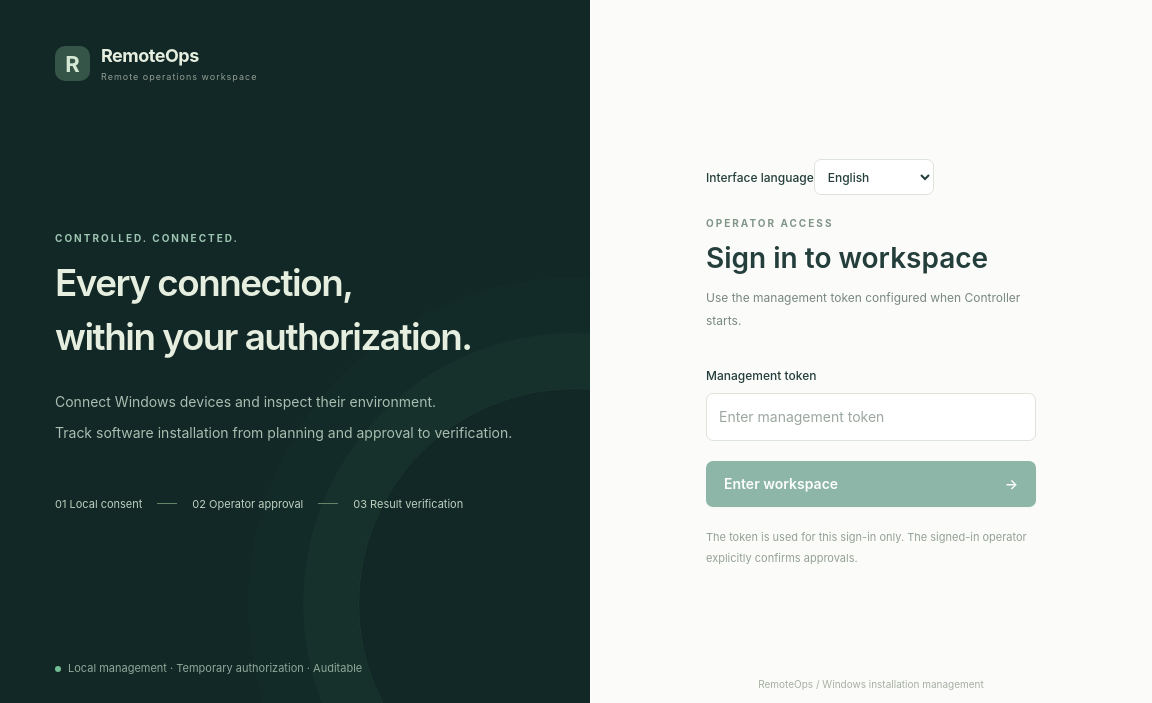
Test: management UI › localizes task diagnostics and audit actions while preserving external details and IDs
The image size is (1152, 703).
Type "test-token" into the password field labelled "Management token". click: (871, 417)
box: top-left (706, 393), bottom-right (1036, 441)
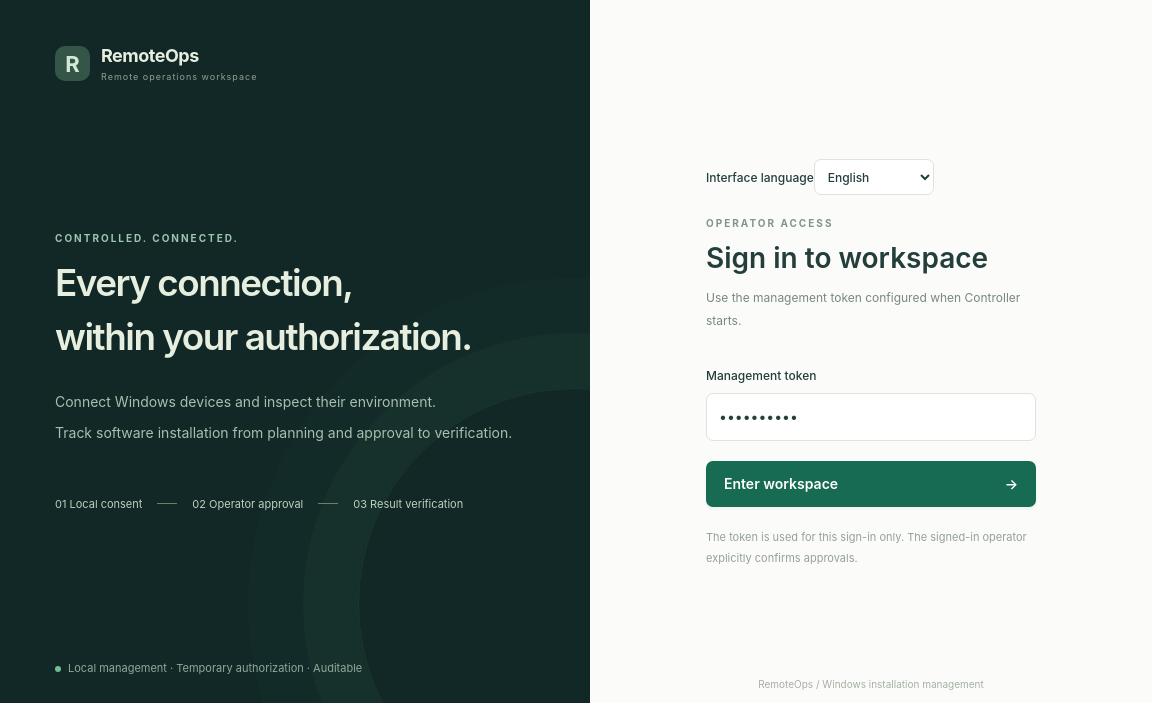
Submit the form, box top-left (706, 151), bottom-right (1036, 569)
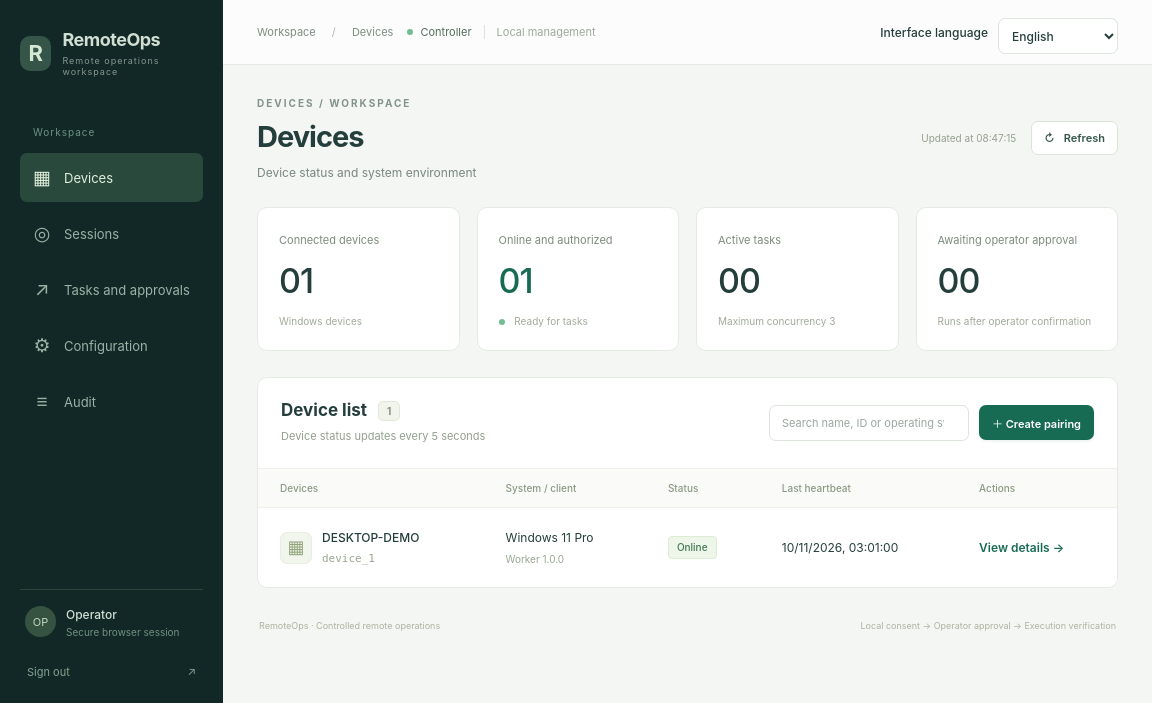
Click the button "↗ Tasks and approvals". click: (112, 290)
box: top-left (20, 265), bottom-right (203, 314)
(page scrolled)
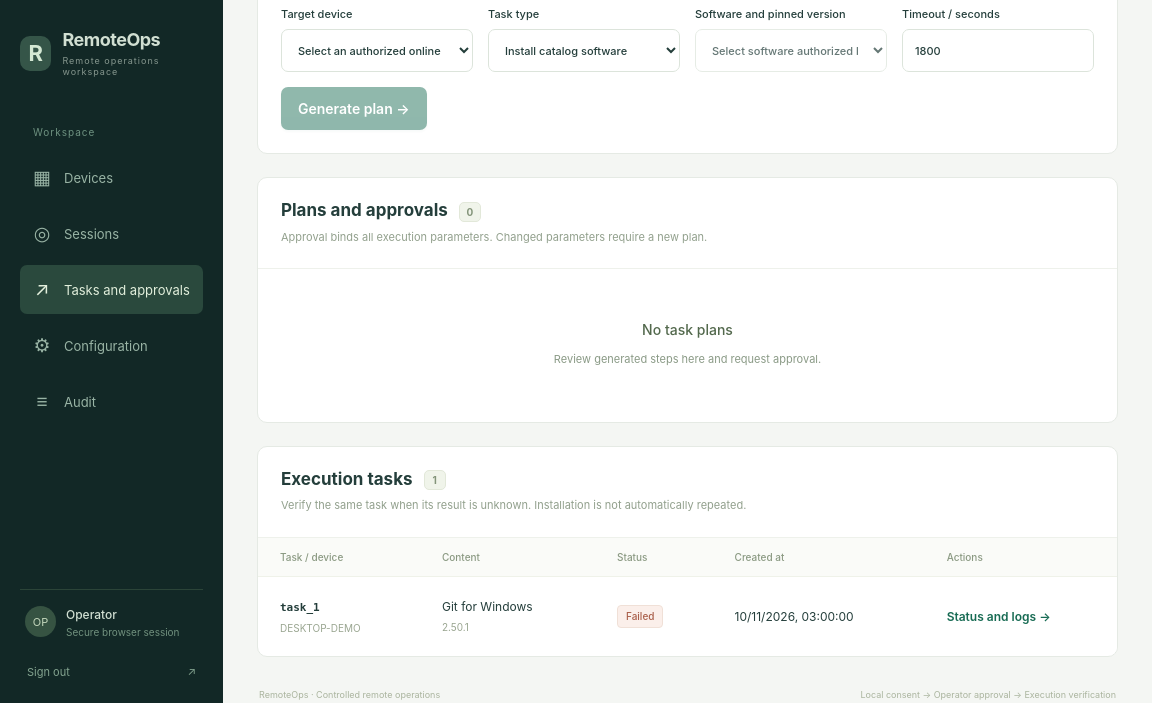
Click the button "Status and logs →". click: (999, 616)
box: top-left (947, 599), bottom-right (1051, 634)
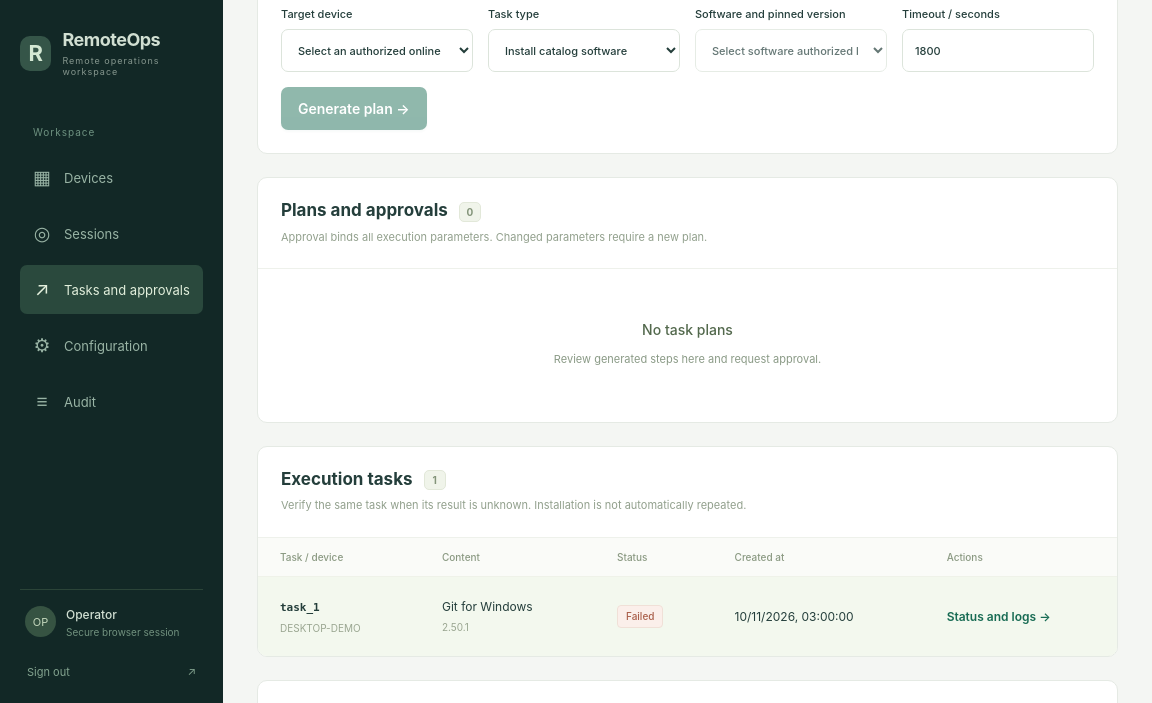
Click the button "≡ Audit". click: (112, 402)
box: top-left (20, 377), bottom-right (203, 426)
(page scrolled)
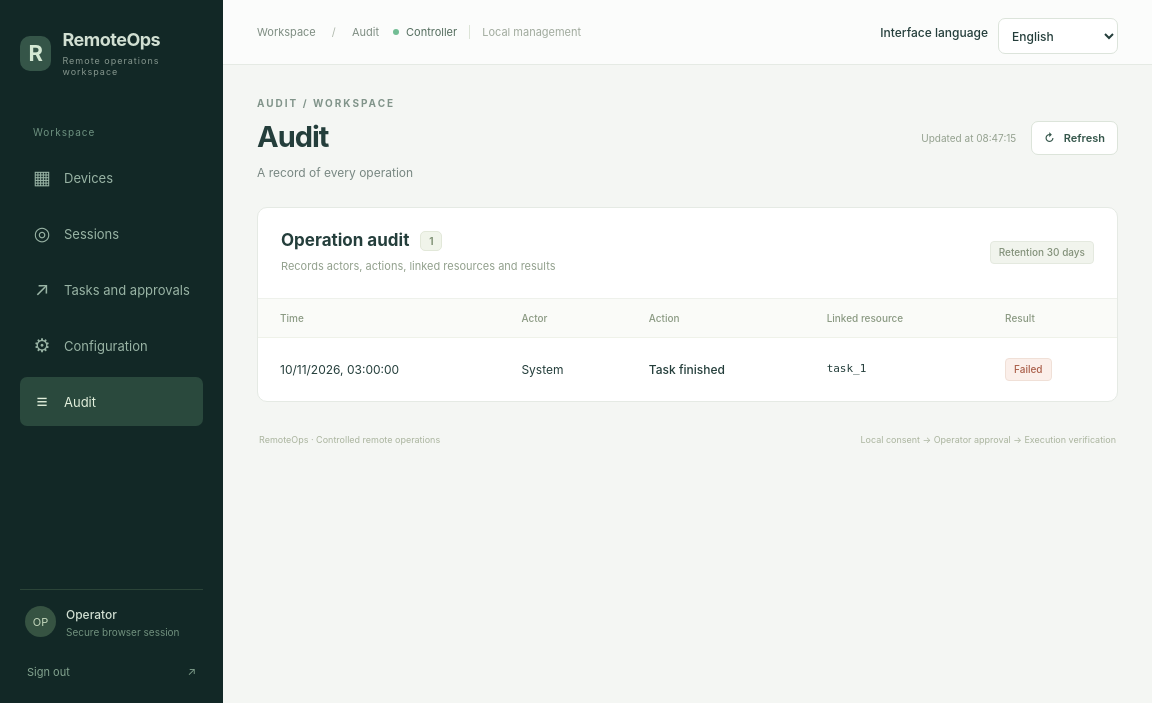
expect the table shows "task_1": met, box top-left (827, 362), bottom-right (866, 375)
expect the table shows "Task finished": met, box top-left (649, 362), bottom-right (725, 376)
expect the table shows "System": met, box top-left (521, 362), bottom-right (564, 376)
